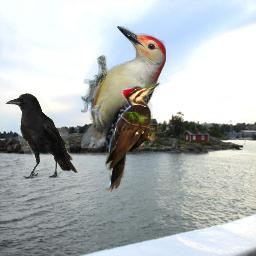Crow: (5, 93, 78, 180)
Woodpecker: (81, 26, 166, 148), (104, 81, 163, 192)
